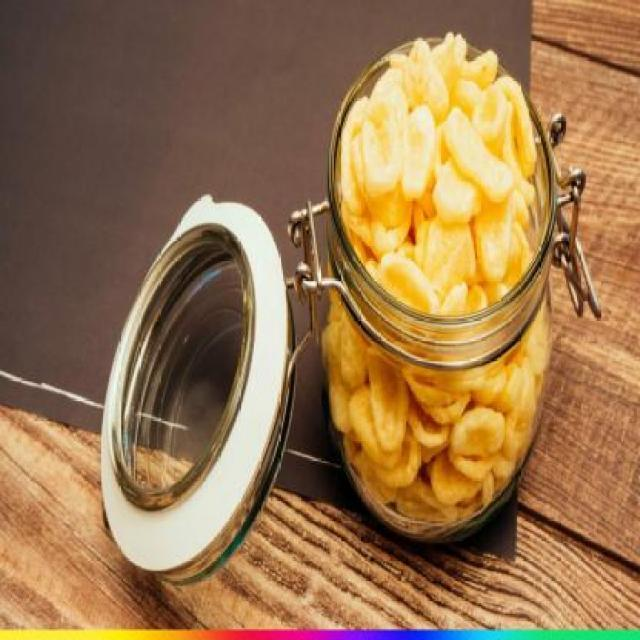Chips packaged: (345, 45, 538, 302)
